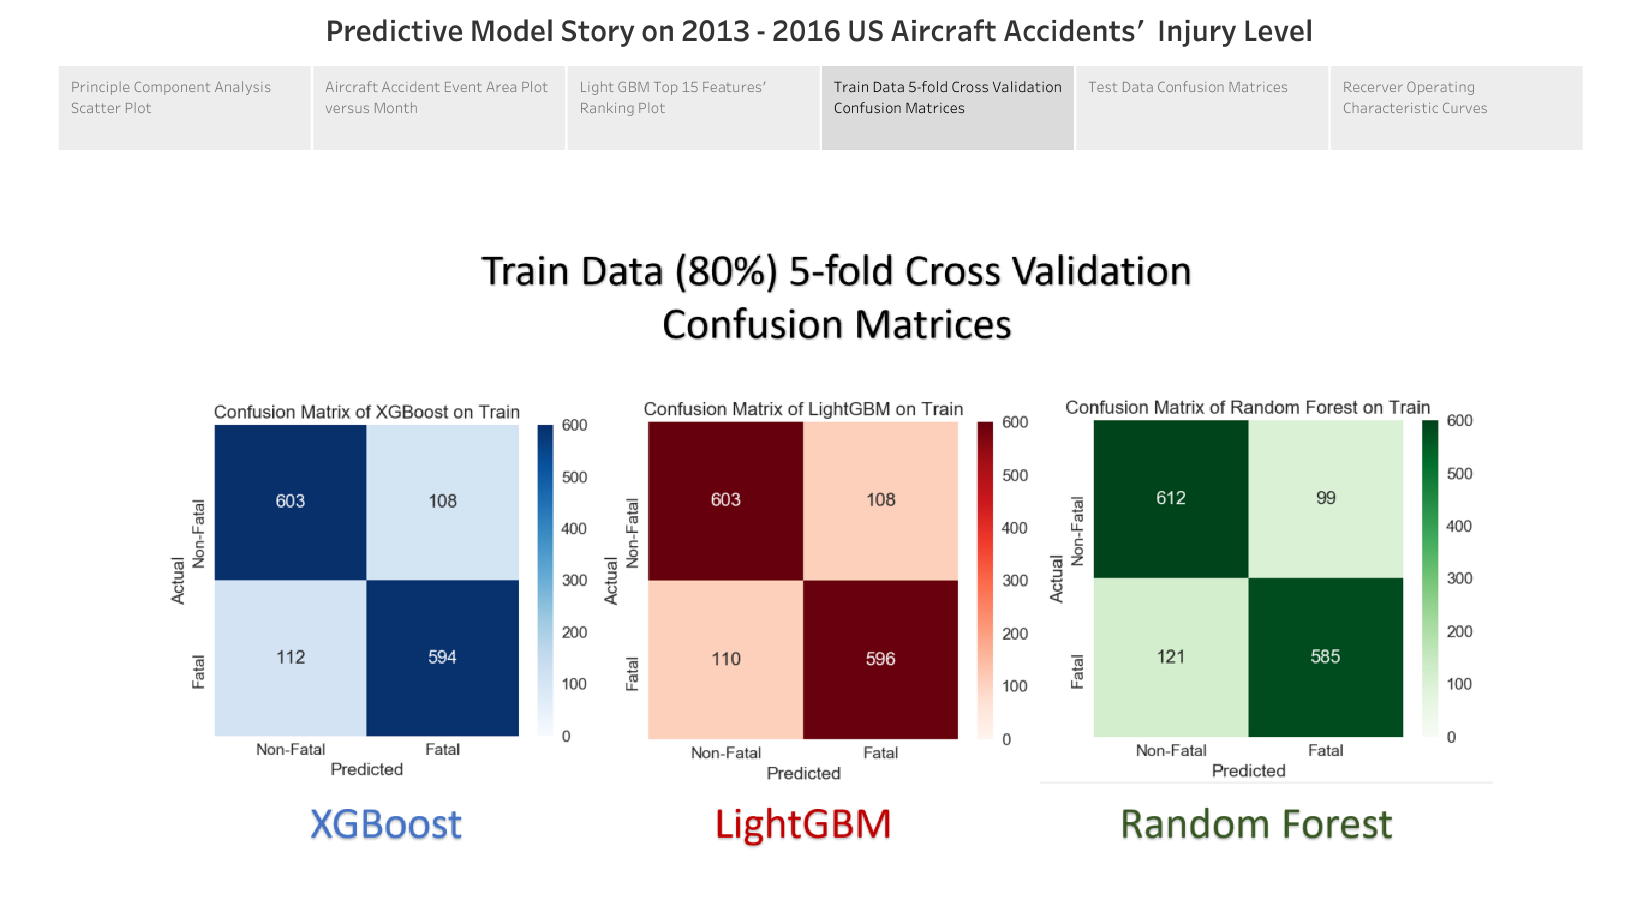

This screenshot's page, from the dashboard's own definition file:
{"tool":"tableau","page":{"name":"train_cm","canvas":[1266,668],"ordinal":4},"visuals":[{"type":"image","param":"C:/Users/Jimny/Desktop/Study/Fall 2019/ANLY 503/Project/Train_Conf_Mat.png","box":[92,49,1102,571]}]}

Visuals, with their boxes on the page's 1266x668 design canvas (x1, y1, x2, y2). These are canvas units, not pixel positions in the 1638x920 screenshot, which may show the page scaled, cropped or inside an application window:
image: locate(92, 49, 1194, 620)
